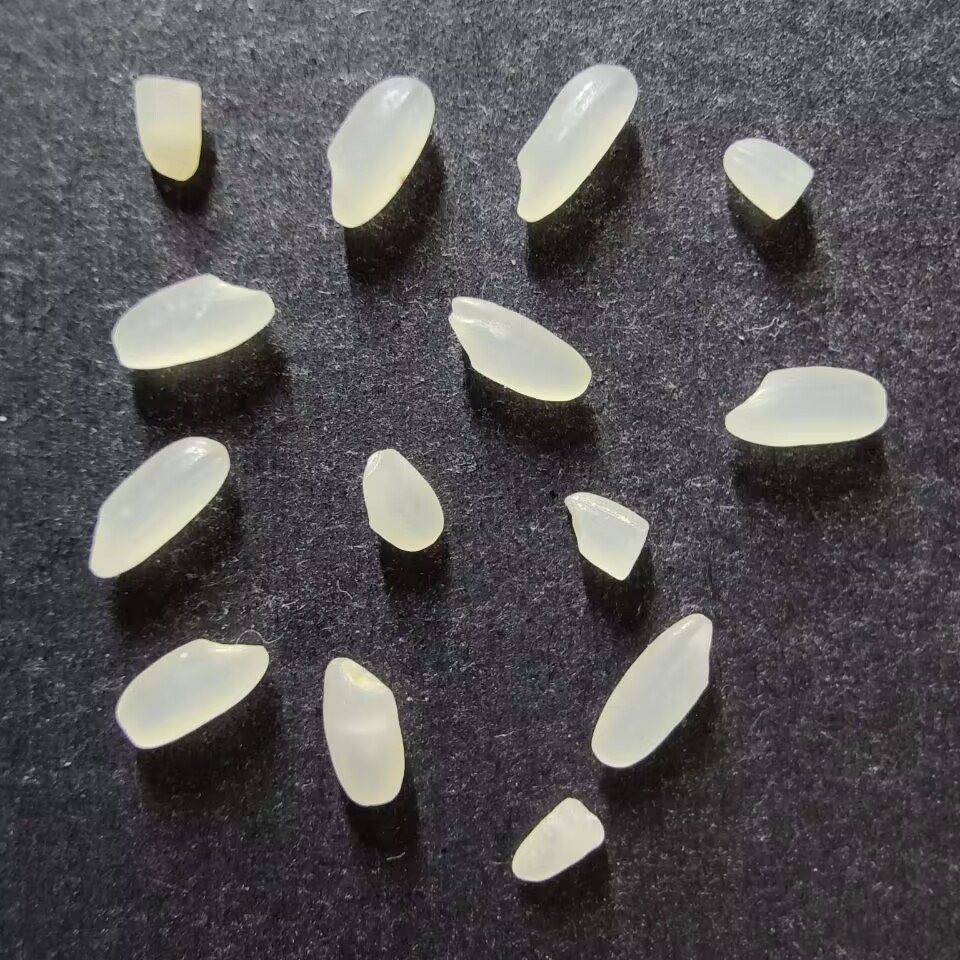broken: (361, 448, 446, 552), (511, 796, 604, 883), (563, 491, 650, 581), (722, 137, 814, 221), (134, 75, 202, 181)
rice: (88, 435, 230, 578), (515, 63, 639, 223), (590, 612, 713, 768), (114, 638, 270, 749), (326, 76, 435, 227), (111, 274, 275, 369), (447, 295, 592, 401), (724, 366, 888, 446), (321, 656, 405, 806)
